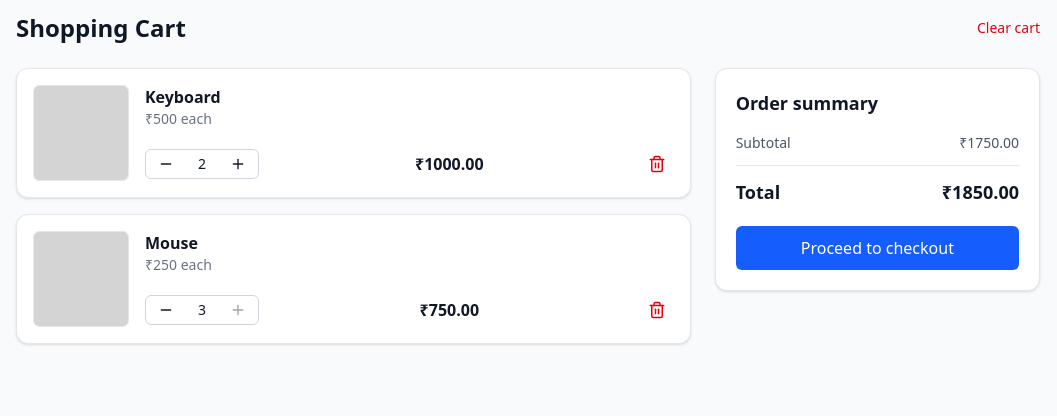
Test: CartPage › errors › shows the server message when an action fails
Click the button named "Increase quantity" in the row of "1000.00": coordinates (238, 164) [218,150,258,178]
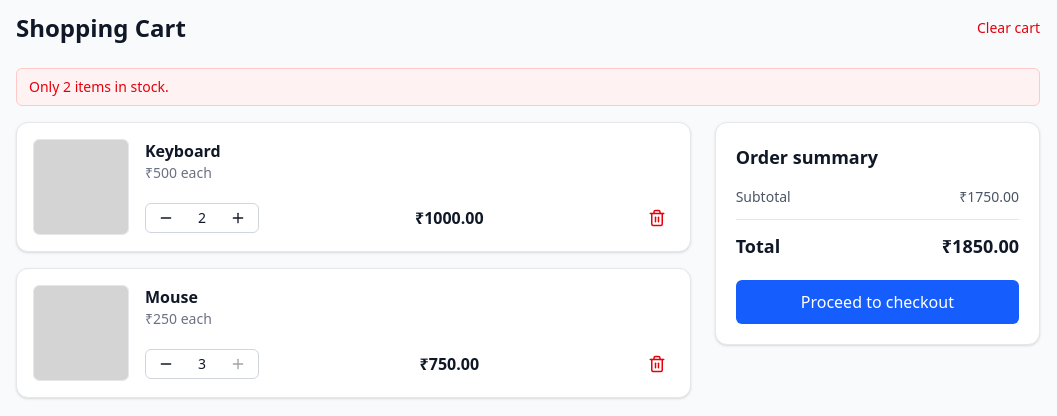
Result: the text "Only 2 items in stock." is shown at [16,68,1040,106]
